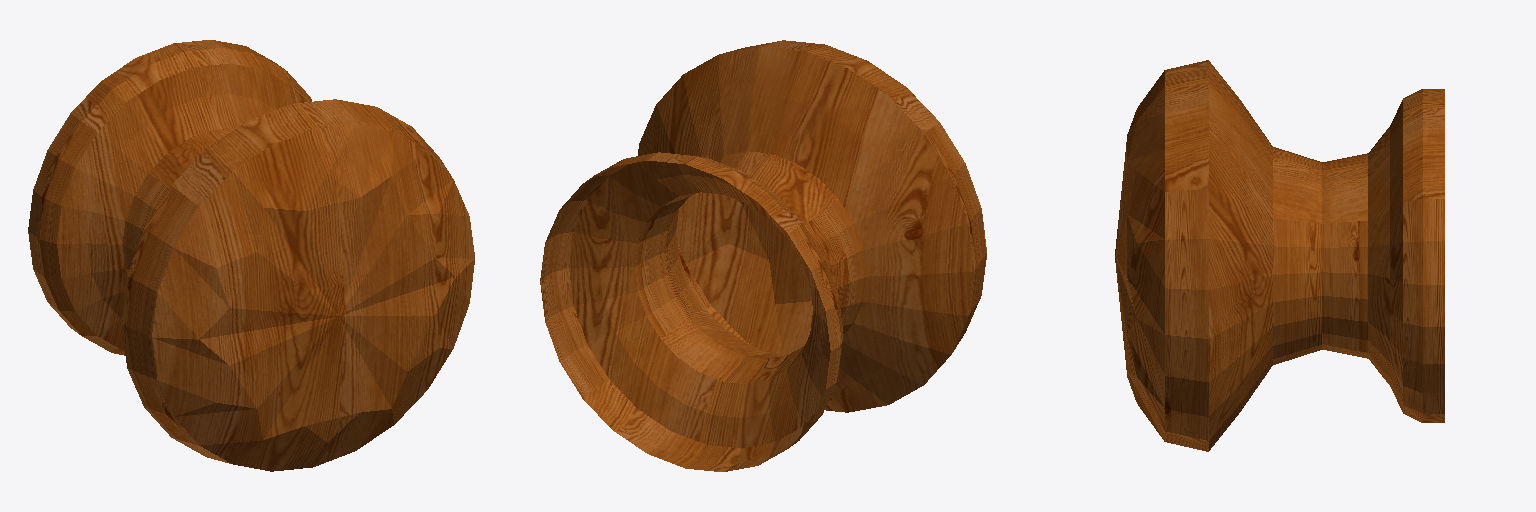
The picture shows the model from 3 angles: view 1: azimuth 30°, elevation 25°; view 2: azimuth 150°, elevation 25°; view 3: azimuth 270°, elevation 25°; orthographic projection.
Bounding box in the file's own units: 0.0305 × 0.0305 × 0.0256.
1 materials, 1 textured.